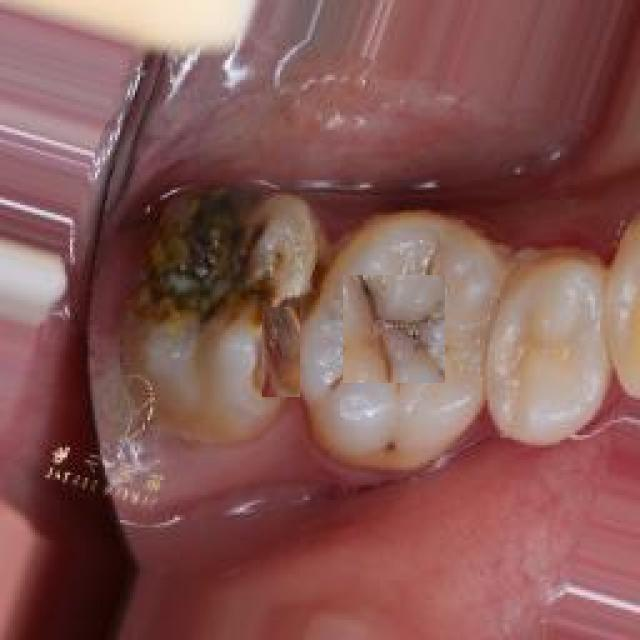decay: (140, 215, 285, 335), (343, 275, 445, 383), (262, 308, 300, 398)
